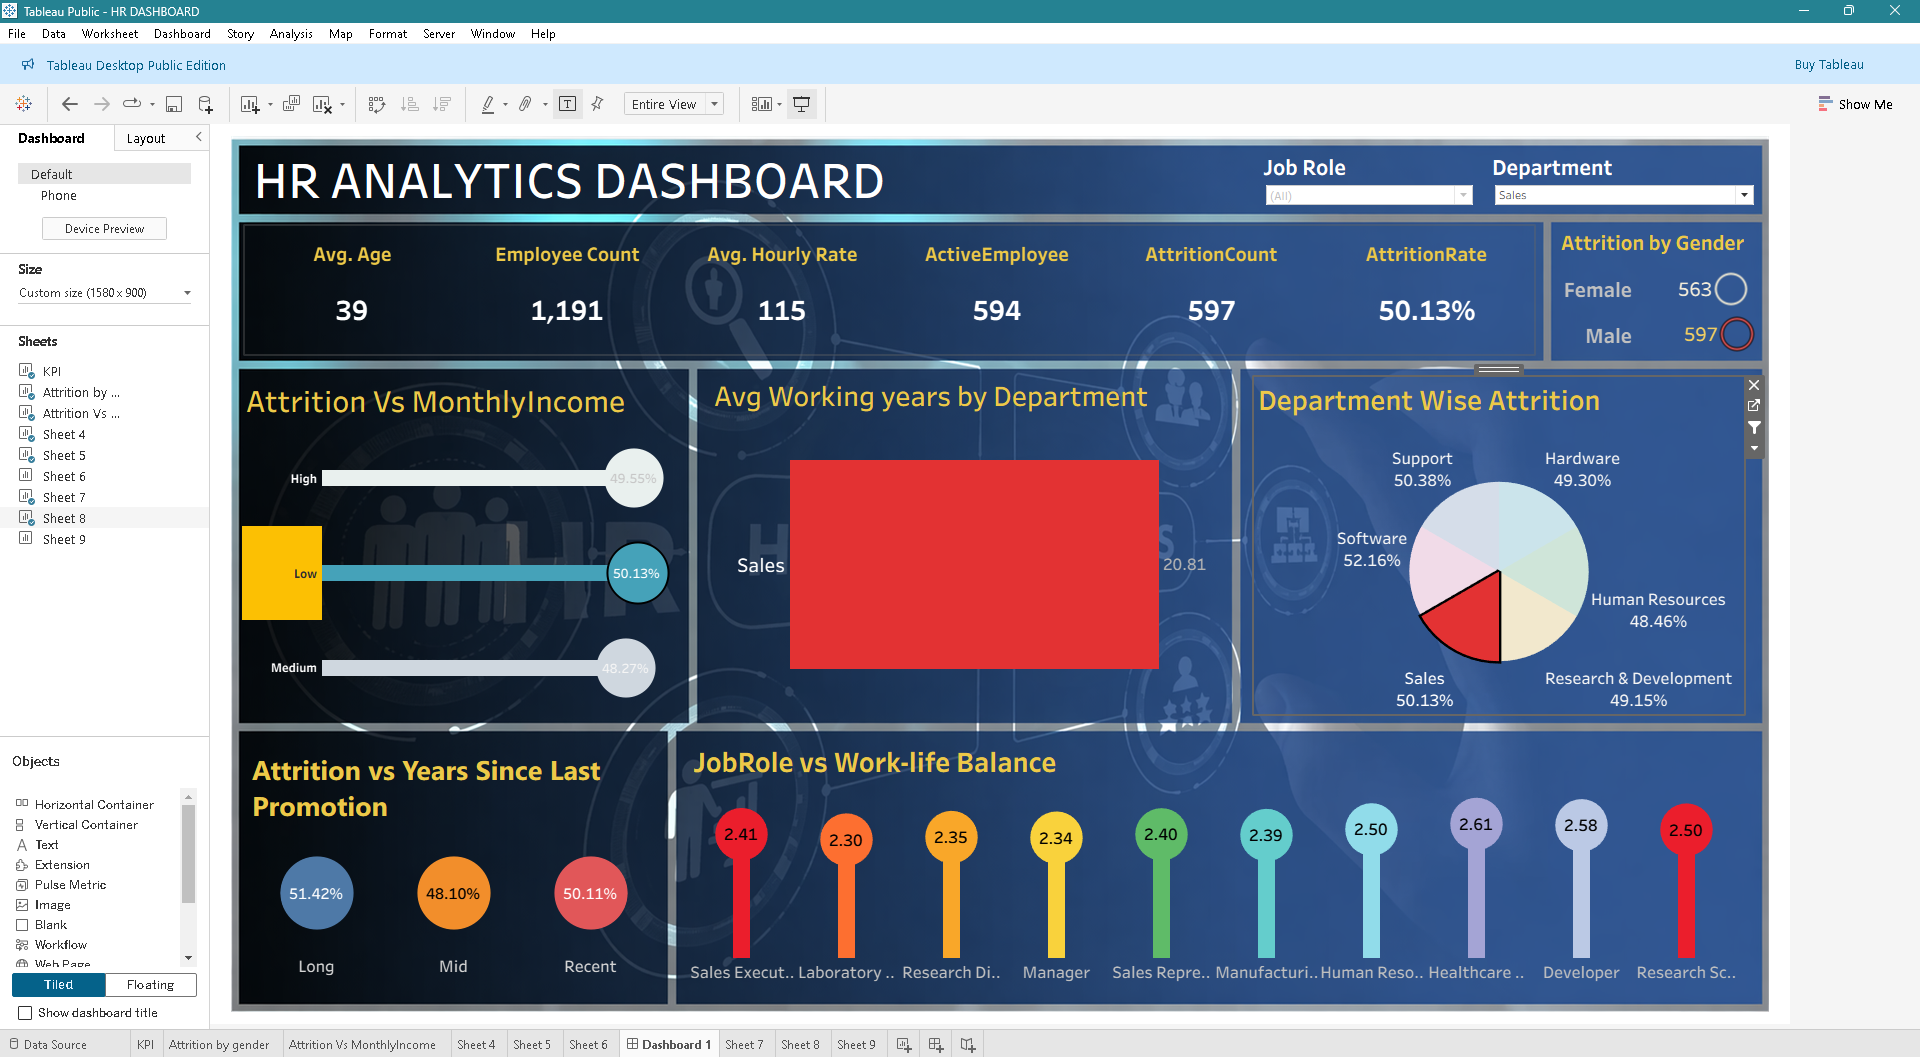

This screenshot's page, from the dashboard's own definition file:
{"tool":"tableau","page":{"name":"HR Analytics dashboard ","canvas":[1580,900],"ordinal":0},"visuals":[{"type":"image","param":"Image/Futuristic HR dashboard design tableau.png","box":[8,8,1564,884]},{"type":"text","box":[41,20,717,69]},{"type":"filter","title":"jobrole vs worklife balance ","param":"[federated.1b0733r0ixth0v11fbgd80oung73].[none:JobRole:nk]","box":[1053,28,213,61]},{"type":"filter","title":"Avg Working year by department","param":"[federated.1b0733r0ixth0v11fbgd80oung73].[Action (Department)]","box":[1282,28,265,62]},{"type":"worksheet","title":"Attrition by gender","mark":"Shape","rows":["Gender"],"cols":["Calculation_2062367211394719744"],"box":[1347,100,201,133]},{"type":"worksheet","title":"KPI","mark":"Automatic","box":[35,102,1289,128]},{"type":"worksheet","title":"Avg Working year by department","mark":"Bar","rows":["Department"],"cols":["TotalWorkingYears"],"box":[500,249,511,330]},{"type":"worksheet","title":"Attrition Vs MonthlyIncome","mark":"Bar","rows":["IncomeGroup"],"cols":["Calculation_2062367211396243460","Calculation_2062367211396243460"],"box":[32,252,441,339]},{"type":"worksheet","title":"Department wise attriton ","mark":"Pie","cols":["Calculation_2062367211593617417","Calculation_2062367211593617417"],"box":[1044,253,490,337]},{"type":"worksheet","title":"jobrole vs worklife balance ","mark":"Bar","rows":["WorkLifeBalance","WorkLifeBalance"],"cols":["JobRole"],"box":[479,615,1067,259]},{"type":"worksheet","title":"Attrition vs years since last promotion ","mark":"Pie","rows":["Calculation_2062367211588386823","Calculation_2062367211588386823"],"cols":["PromotionGroup"],"box":[38,623,412,247]}]}

Visuals, with their boxes on the page's 1580x900 design canvas (x1, y1, x2, y2). These are canvas units, not pixel positions in the 1920x1057 screenshot, which may show the page scaled, cropped or inside an application window:
image: [8,8,1572,892]
text: [41,20,758,89]
"jobrole vs worklife balance " filter: [1053,28,1266,89]
"Avg Working year by department" filter: [1282,28,1547,90]
"Attrition by gender" worksheet (Shape marks): [1347,100,1548,233]
"KPI" worksheet: [35,102,1324,230]
"Avg Working year by department" worksheet (Bar marks): [500,249,1011,579]
"Attrition Vs MonthlyIncome" worksheet (Bar marks): [32,252,473,591]
"Department wise attriton " worksheet (Pie marks): [1044,253,1534,590]
"jobrole vs worklife balance " worksheet (Bar marks): [479,615,1546,874]
"Attrition vs years since last promotion " worksheet (Pie marks): [38,623,450,870]
